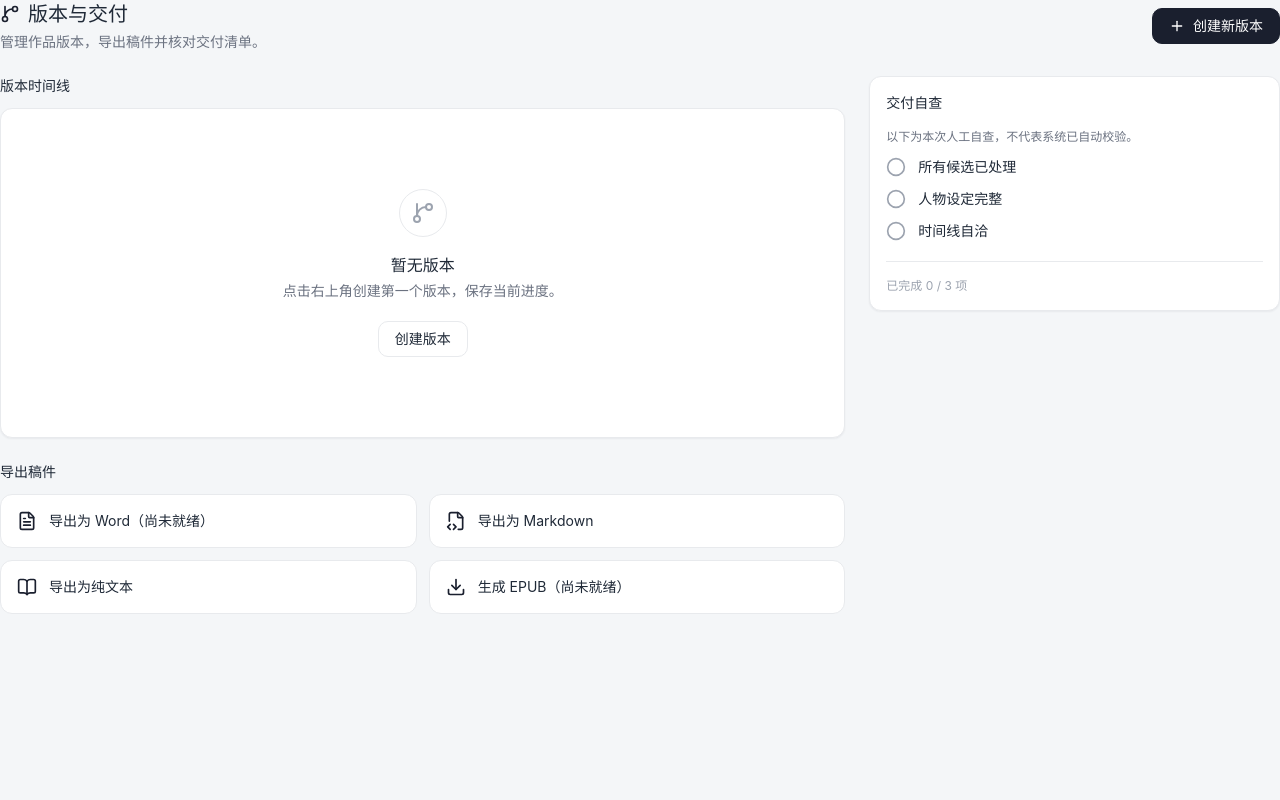
Test: 导出确认后创建真实文件并显示结果，不把占位按钮当成功
Click the button "导出为纯文本".
click(91, 586)  # box [0, 560, 417, 614]
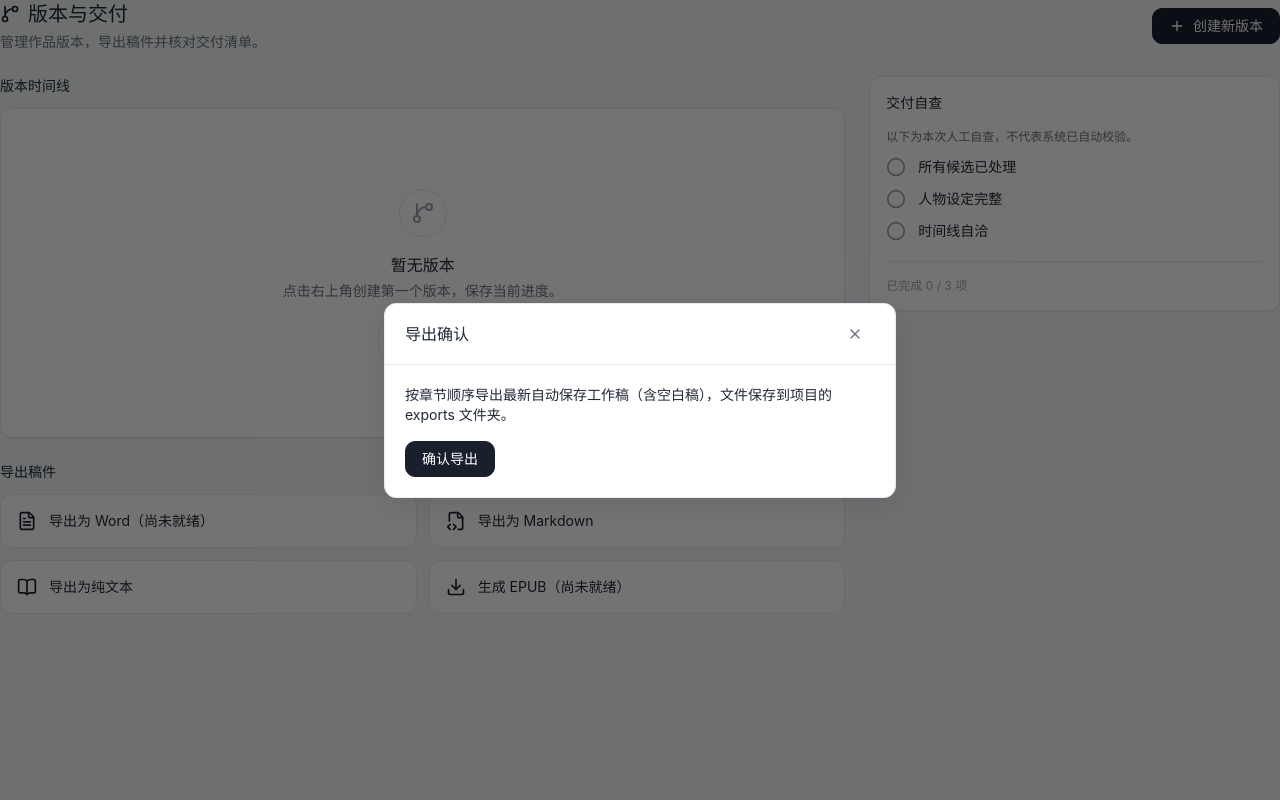
Click the button "确认导出".
click(450, 458)  # box [405, 440, 495, 476]
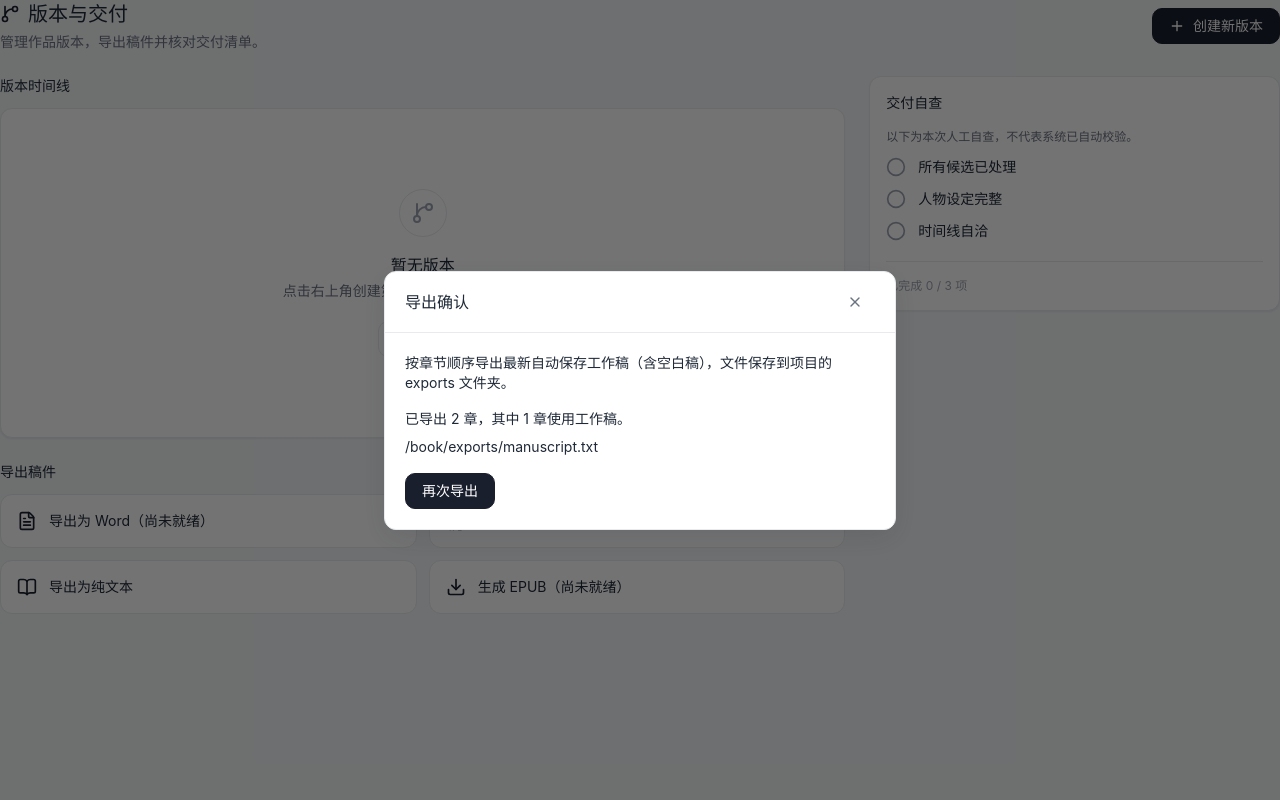
Result: the text named "导出文件路径" is shown at [405, 438, 598, 454]
Result: the text "已导出 2 章，其中 1 章使用工作稿。" is shown at [405, 410, 631, 426]
